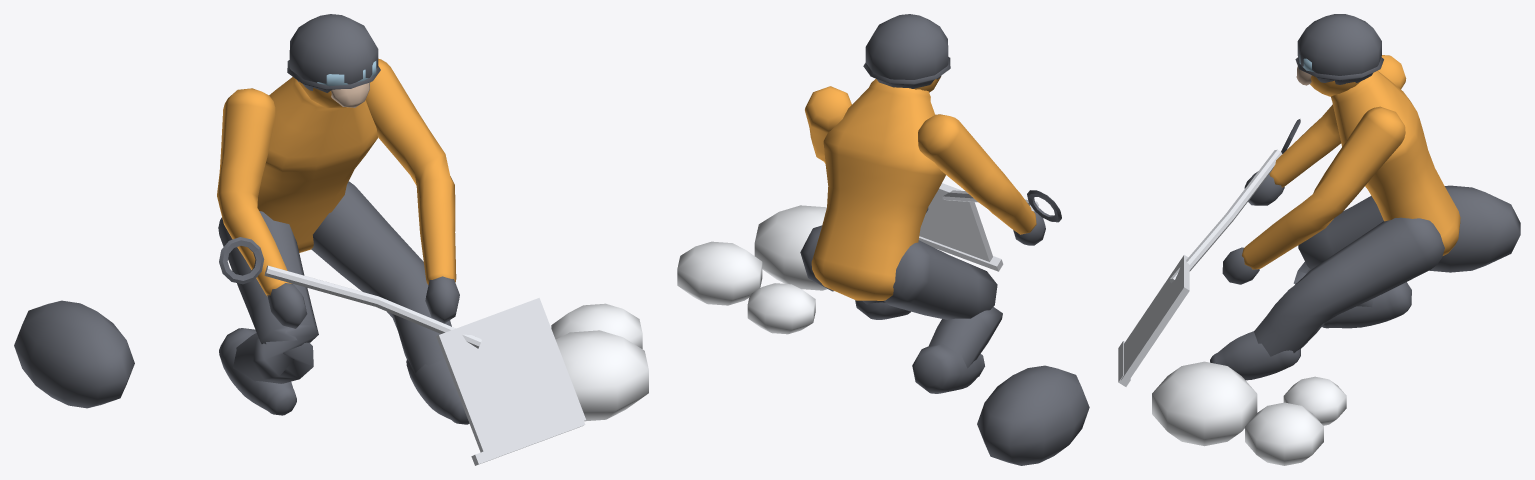
File: backcountry-snowboarding-and-avalanche-safety-rider-di-d8da2661__18918.glb
3 views of the same model, side by side, from view 1: azimuth 30°, elevation 25°; view 2: azimuth 150°, elevation 25°; view 3: azimuth 270°, elevation 25° (orthographic). The views are drawn at different scales.
Visible parts, largest first — view 1: rider-digging-snow-pit; view 2: rider-digging-snow-pit; view 3: rider-digging-snow-pit.
Part boxes in pixels (x1,y1,x2,y2): rider-digging-snow-pit: [14, 14, 648, 465]; rider-digging-snow-pit: [677, 14, 1089, 465]; rider-digging-snow-pit: [1118, 14, 1520, 465].
Size of the model in its own units: 1.73 by 1.23 by 1.31.
